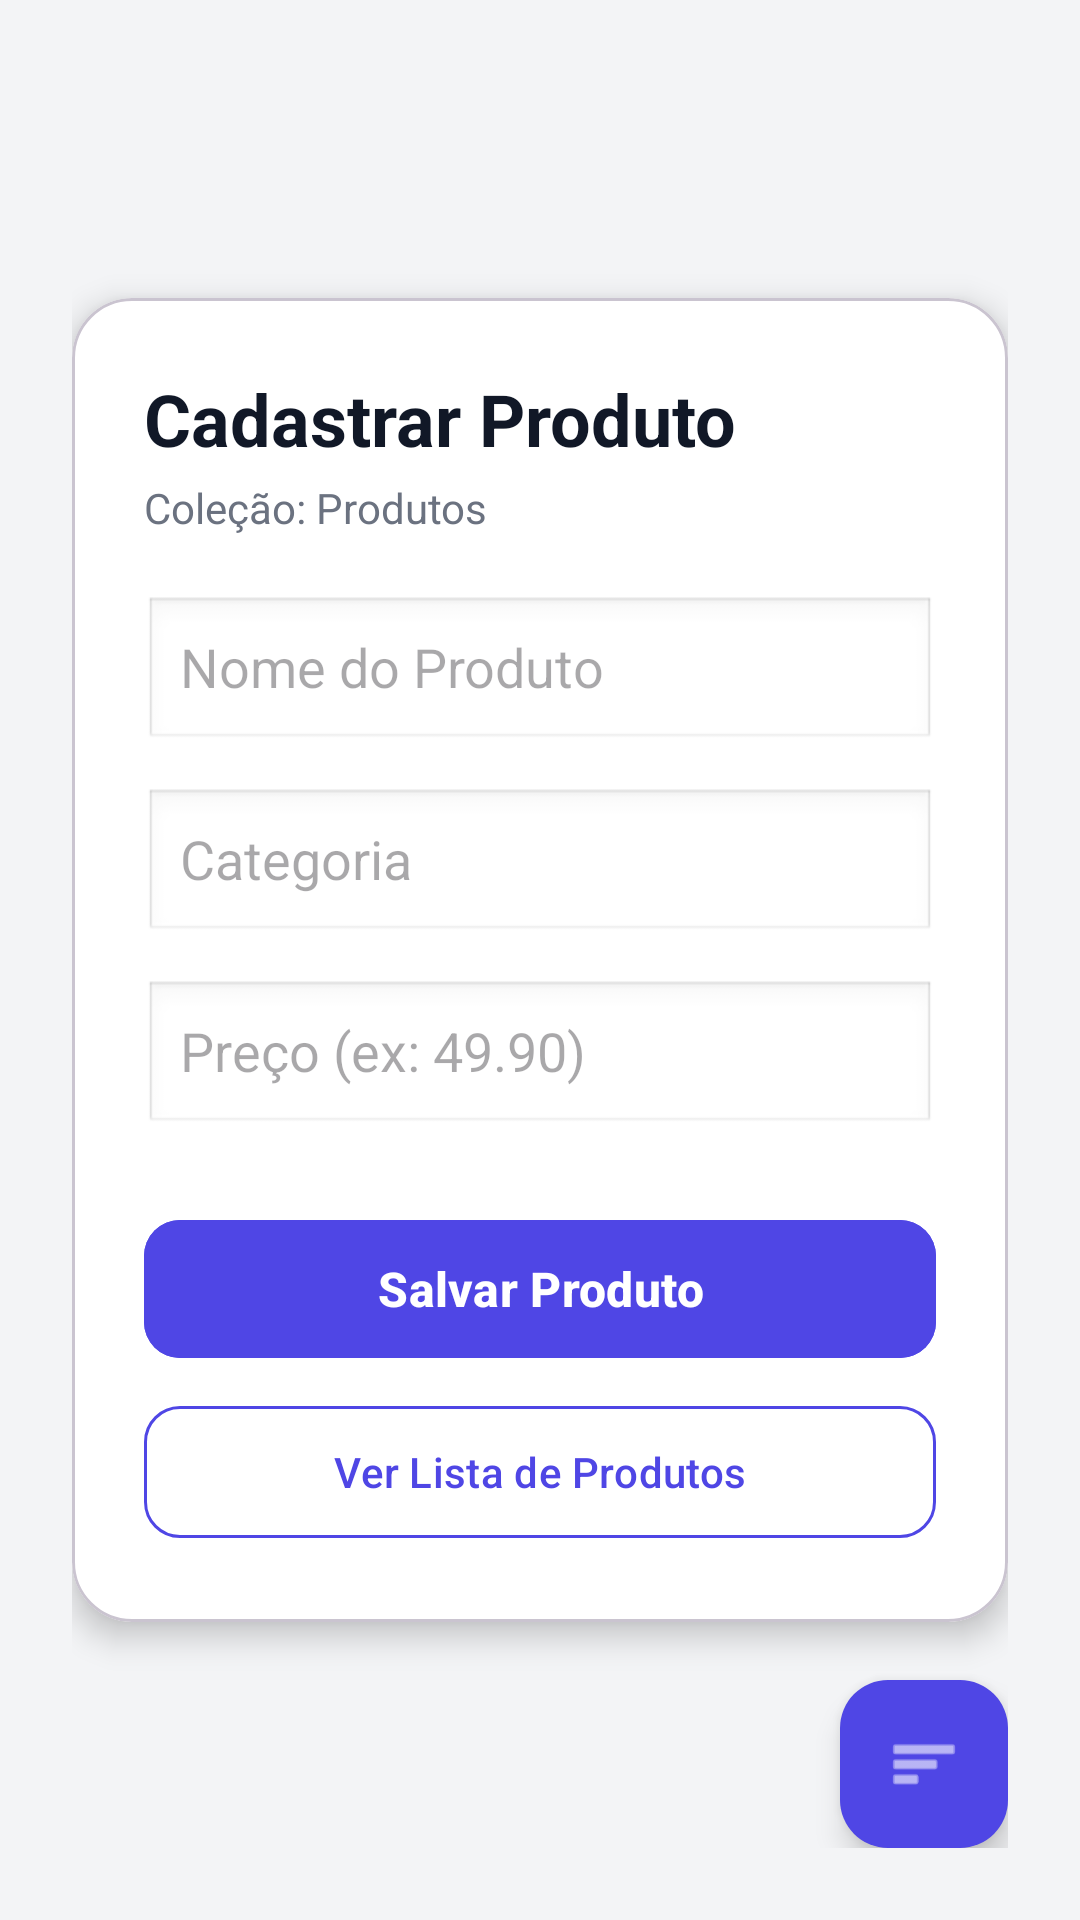

Screen size 1080×1920. Icon name, then its box in pixels as bbox(x1, y1, x2, y2):
Abrir Lista: bbox(840, 1680, 1008, 1848)
